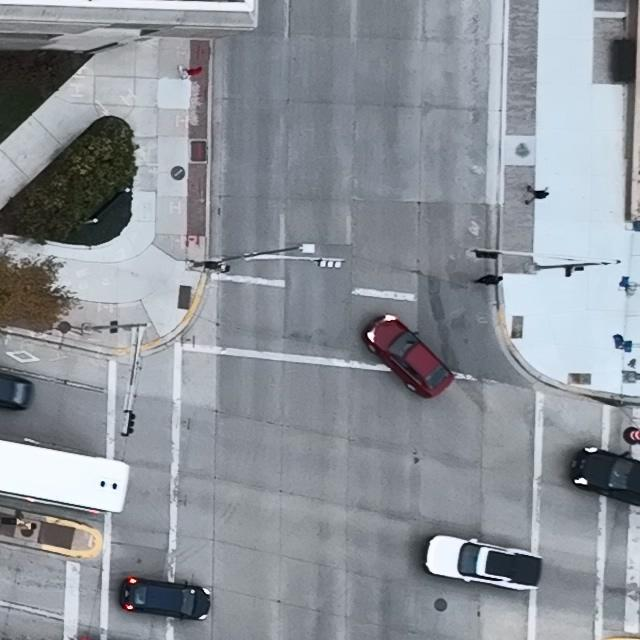car: (361, 312, 456, 398), (423, 534, 542, 590), (569, 446, 640, 506), (117, 577, 210, 622)
